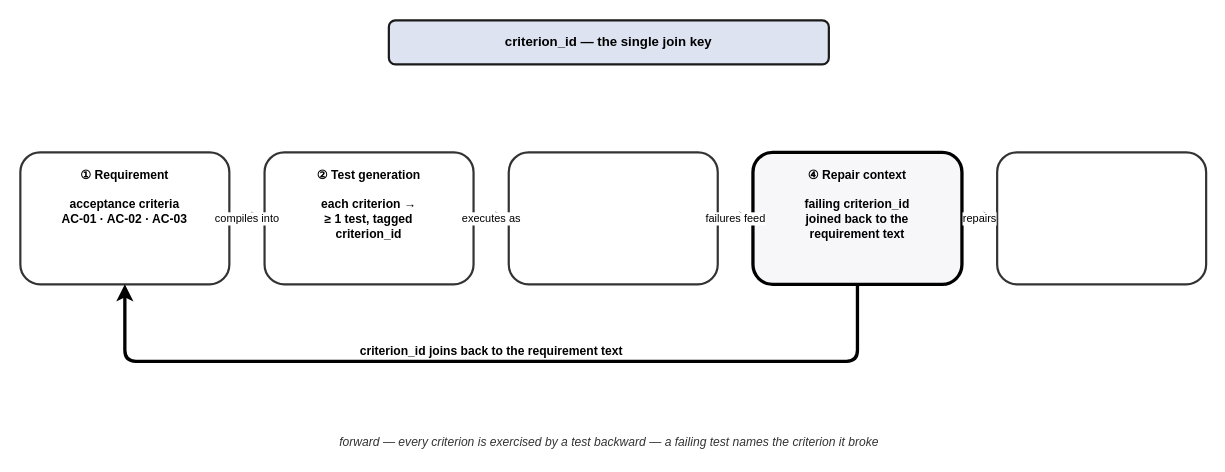
Image size: 1225x472. Some labels were removed from this diagram. Here are the shapes that lost their labels. From the top down, the centre of each, then its label:
At pixel 612 218: "③ Test run per-test result + criterion_id AC-02 FAIL".
At pixel 1101 218: "⑤ Repair attempt patch → re-run (Fig. 3)".
